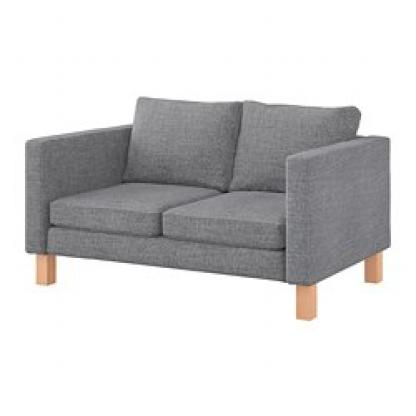Sofa: (19, 77, 394, 326)
